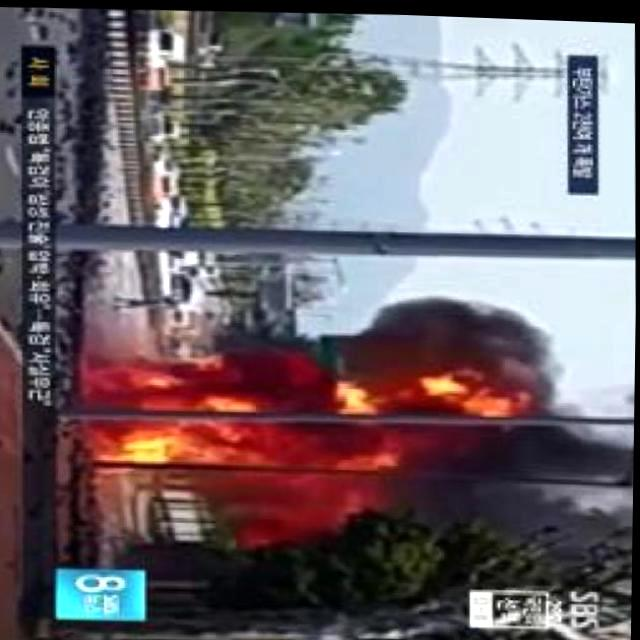fire: (89, 347, 384, 525), (394, 368, 518, 418)
